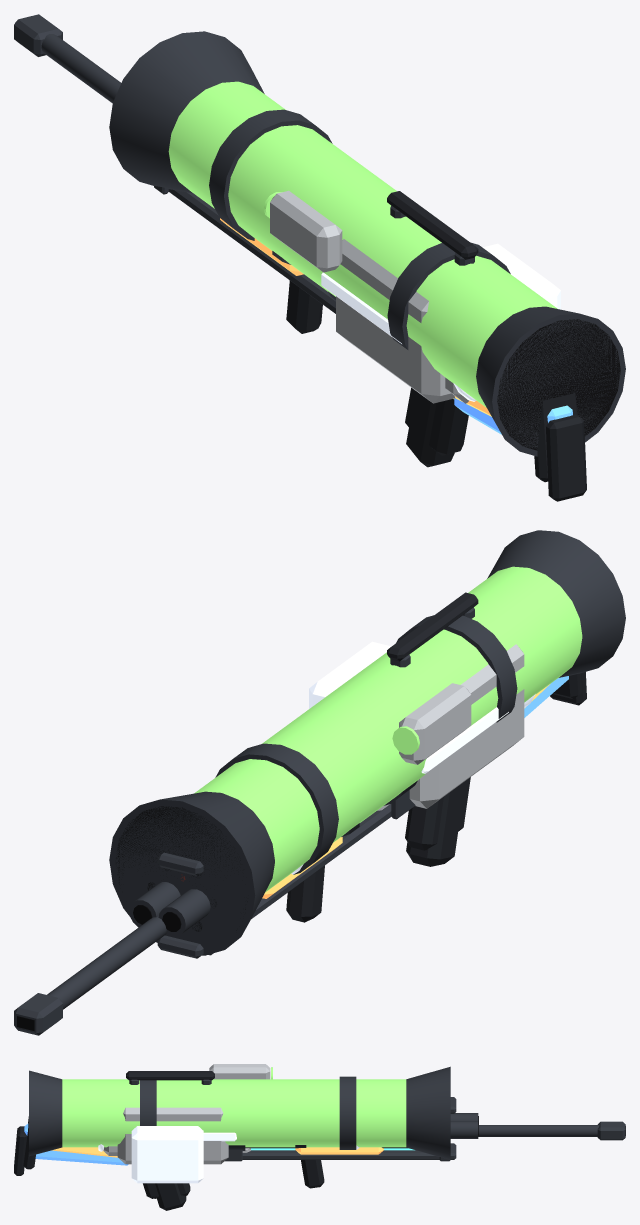
File: weapons.glb
3 renders of one model, top to bottom at view 1: azimuth 30°, elevation 25°; view 2: azimuth 150°, elevation 25°; view 3: azimuth 270°, elevation 25°, orthographic. The views are drawn at different scales.
Visible parts, largest first — view 1: rocket, minigun, sniper, railgun, shotgun, pistol; view 2: rocket, minigun, sniper, railgun, shotgun, pistol, minigun_spin; view 3: rocket, minigun, sniper, railgun, shotgun, pistol.
Part boxes in pixels (x1=…): rocket: x1=109, y1=31, x2=625, y2=456; minigun: x1=321, y1=191, x2=560, y2=455; sniper: x1=14, y1=14, x2=586, y2=501; railgun: x1=154, y1=186, x2=468, y2=403; shotgun: x1=220, y1=218, x2=577, y2=482; pistol: x1=406, y1=391, x2=454, y2=467; rocket: x1=109, y1=530, x2=625, y2=955; minigun: x1=309, y1=592, x2=535, y2=828; sniper: x1=14, y1=672, x2=586, y2=1035; railgun: x1=154, y1=790, x2=415, y2=958; shotgun: x1=129, y1=673, x2=582, y2=936; pistol: x1=406, y1=781, x2=465, y2=866; minigun_spin: x1=144, y1=823, x2=359, y2=935; rocket: x1=29, y1=1064, x2=450, y2=1195; minigun: x1=98, y1=1071, x2=245, y2=1198; sniper: x1=14, y1=1121, x2=625, y2=1198; railgun: x1=103, y1=1097, x2=456, y2=1161; shotgun: x1=23, y1=1113, x2=478, y2=1197; pistol: x1=155, y1=1183, x2=186, y2=1210.
Bounding box in the file's own units: 0.205 × 0.2742 × 1.1.
